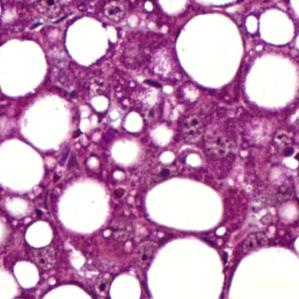steatosis: (174, 10, 246, 92), (144, 178, 230, 234), (53, 178, 112, 237), (15, 96, 73, 152), (62, 13, 115, 66)
